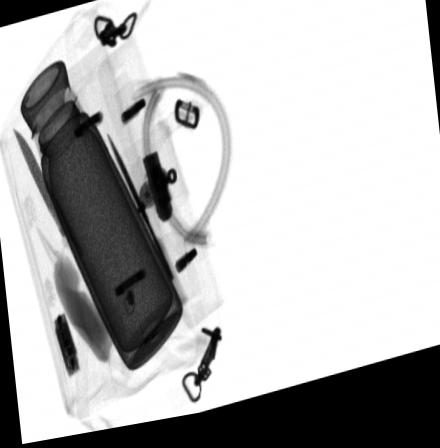Knife: (13, 126, 129, 352)
Scissors: (106, 136, 176, 287)
